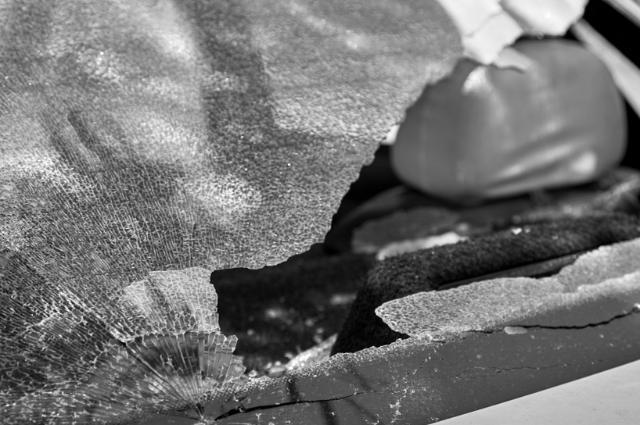Windshield: (2, 0, 640, 373)
